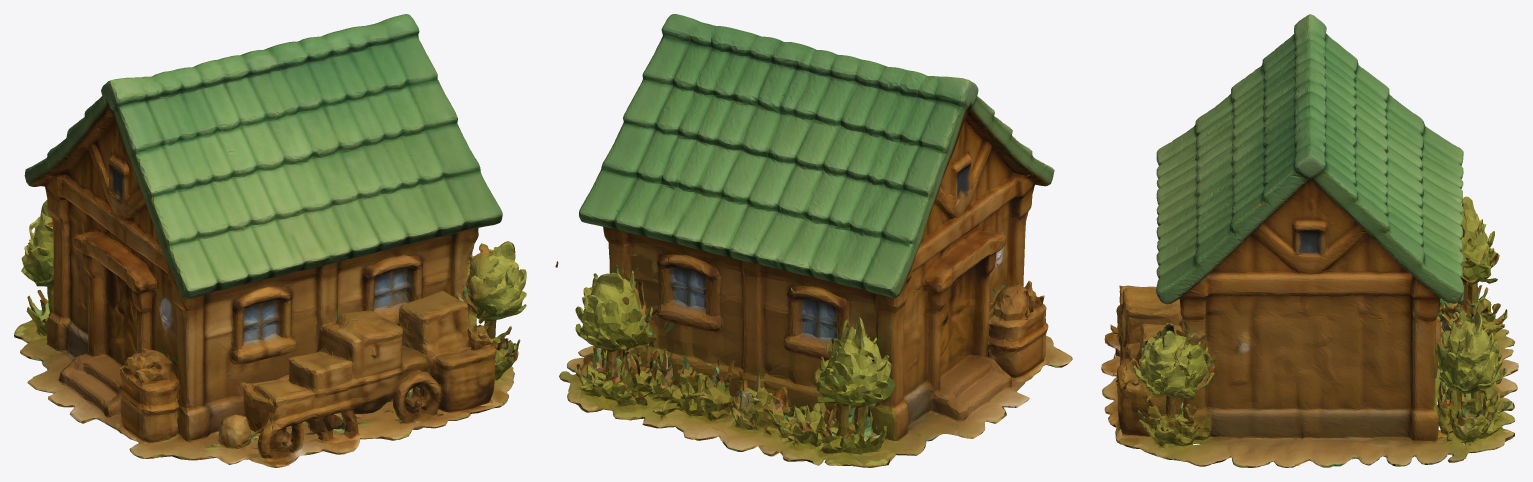
File: wc-warehouse-paint.glb
3 views of the same model, side by side, from view 1: azimuth 30°, elevation 25°; view 2: azimuth 150°, elevation 25°; view 3: azimuth 270°, elevation 25° (orthographic). The views are drawn at different scales.
Parts seen in each view (by area): view 1: geometry_0; view 2: geometry_0; view 3: geometry_0.
Boxes of the visible parts, x1,y1,x2,y2 form: geometry_0: (14, 14, 526, 467); geometry_0: (555, 14, 1072, 467); geometry_0: (1101, 14, 1518, 467).
Size of the model in its own units: 2 by 1.61 by 1.99.
Materials: 1 (1 with a texture image).
